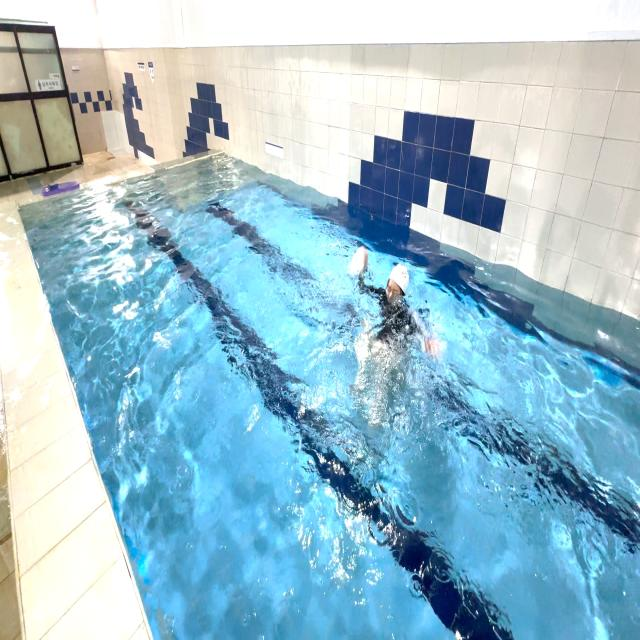Drowning: (350, 244, 440, 416)
